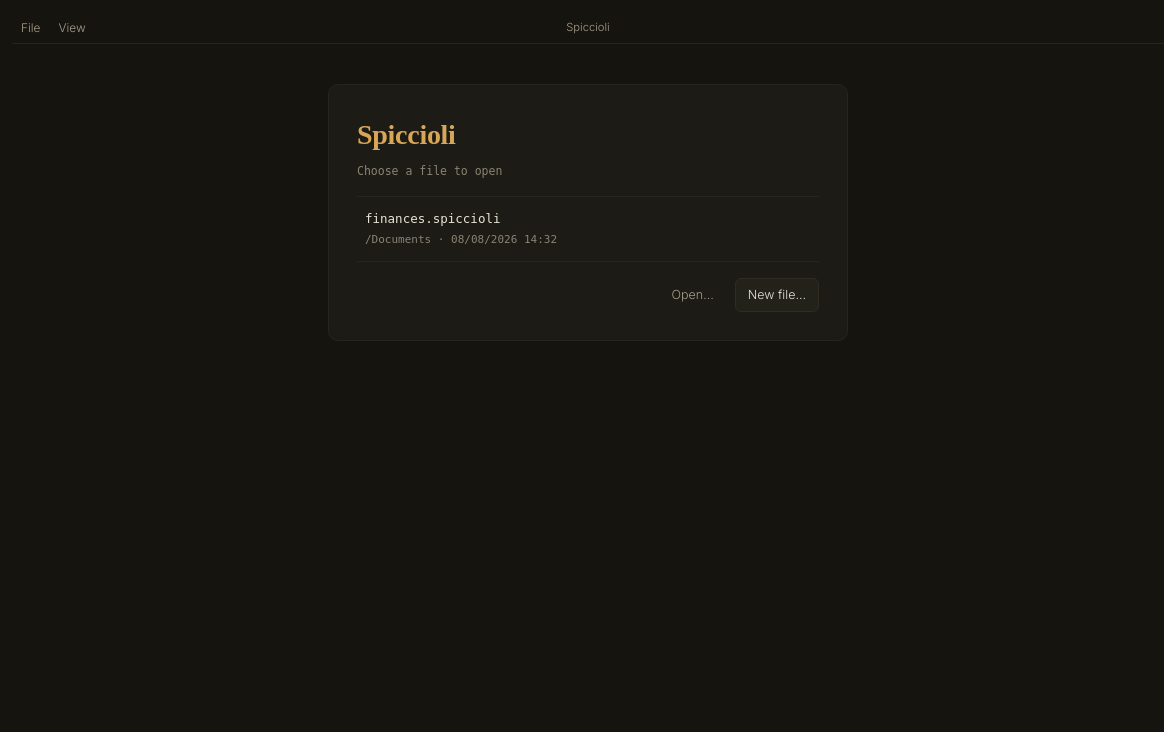
Scenario: the drawn title bar › names the open file, the way the window title does
The width and height of the screenshot is (1164, 732).
What coordinates should you click on to do the following:
click the button "finances.spiccioli /Documents · 08/08/2026 14:32"
I would click on:
 (433, 219)
Its box is x1=357 y1=199 x2=819 y2=259.
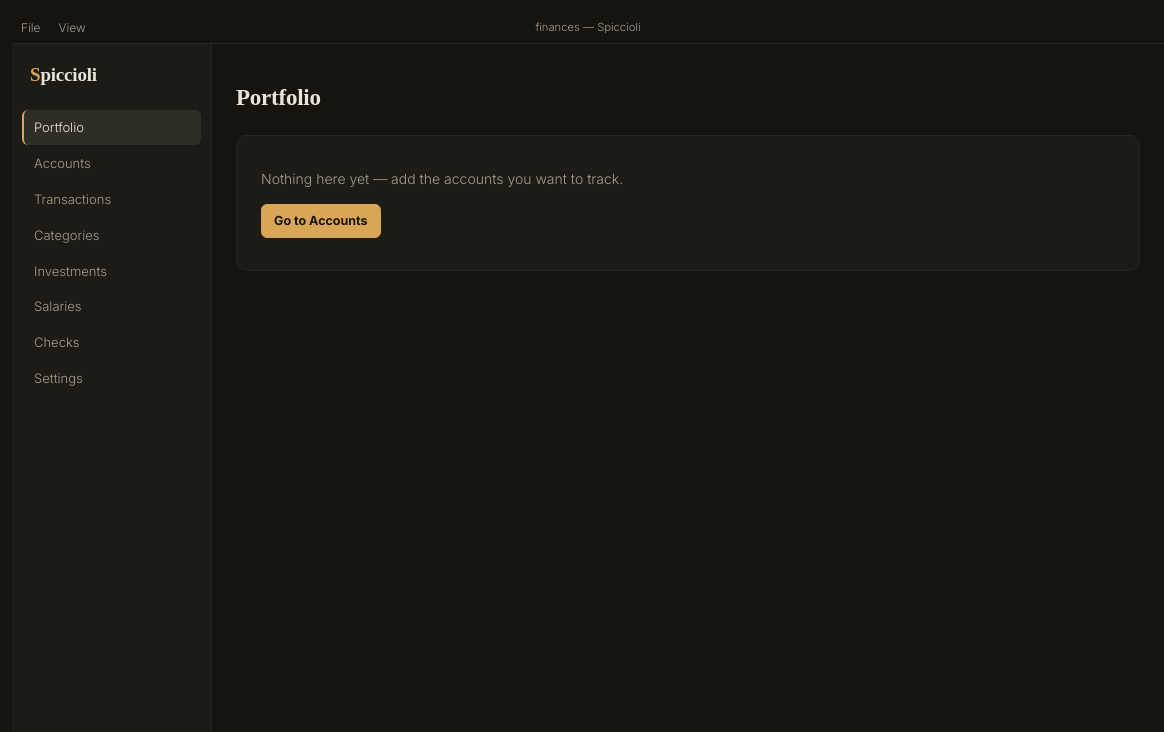
Now the heading "Portfolio" is shown, box x1=236 y1=80 x2=321 y2=117
Now the text "finances — Spiccioli" is shown, box x1=535 y1=20 x2=641 y2=34
